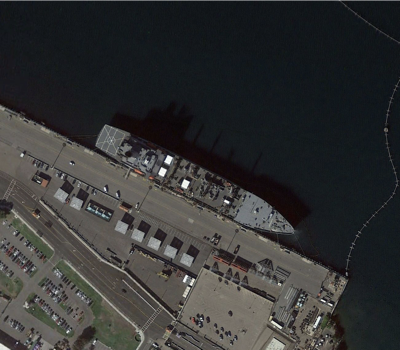boat: (95, 122, 298, 237)
